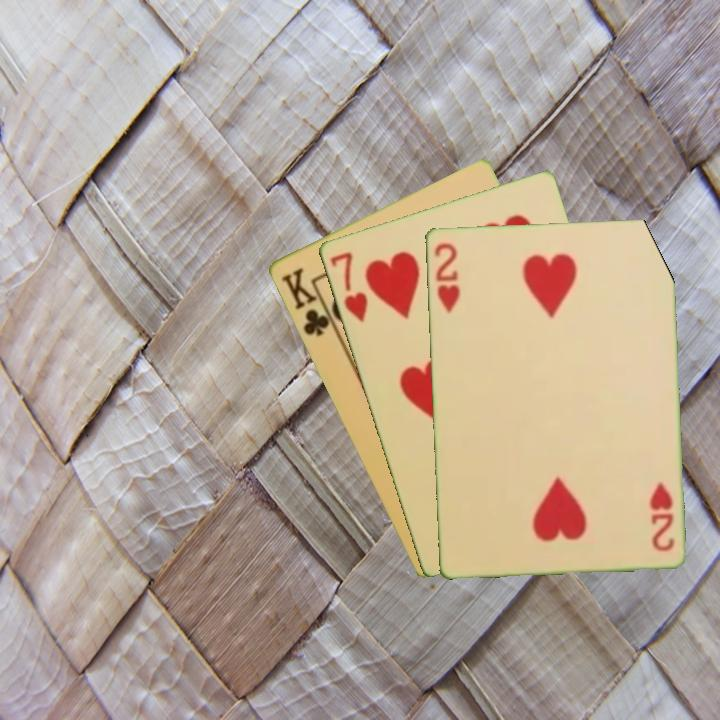2h: (430, 239, 462, 315), (645, 478, 677, 554)
7h: (326, 248, 370, 325)
Kc: (277, 264, 339, 340)
